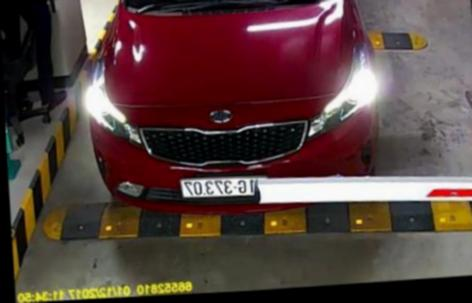License_Plate: (179, 163, 265, 207)
